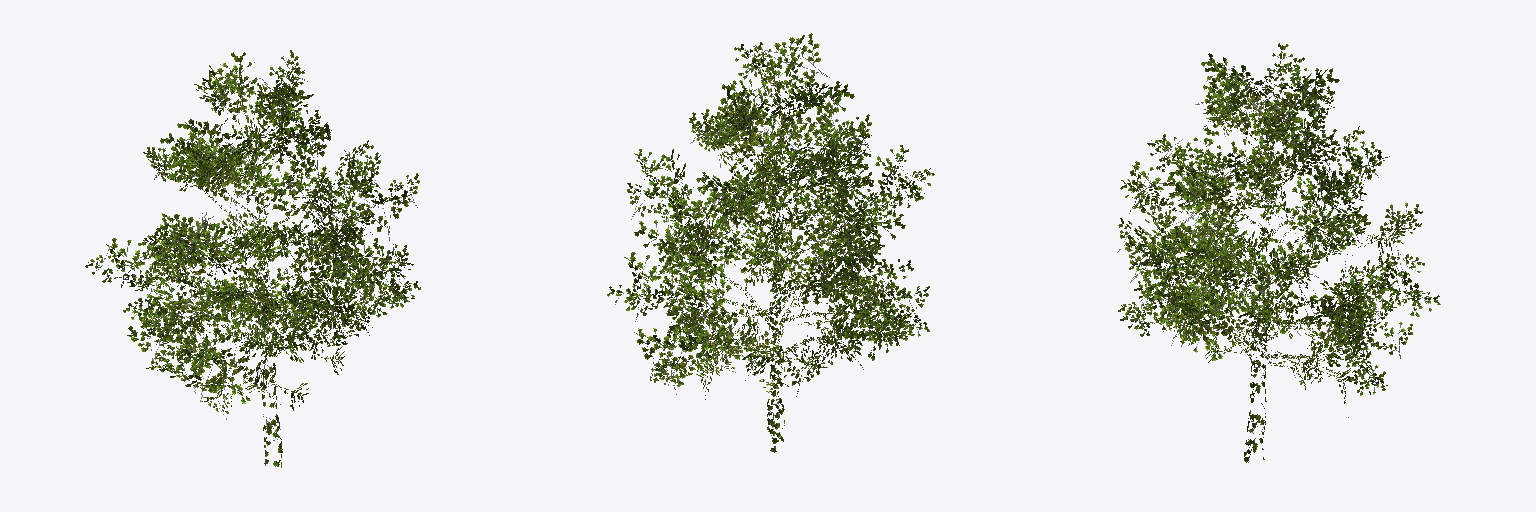
3 renders of one model, left to right at view 1: azimuth 30°, elevation 25°; view 2: azimuth 150°, elevation 25°; view 3: azimuth 270°, elevation 25°, orthographic.
Parts seen in each view (by area): view 1: tree.002, tree.003; view 2: tree.002, tree.003; view 3: tree.002, tree.003.
Part boxes in pixels (left/top/right/bottom): tree.002: left=85, top=50, right=420, bottom=419; tree.003: left=107, top=84, right=400, bottom=467; tree.002: left=607, top=33, right=934, bottom=409; tree.003: left=632, top=75, right=924, bottom=452; tree.002: left=1117, top=43, right=1440, bottom=417; tree.003: left=1132, top=80, right=1413, bottom=462.
Bounding box in the file's own units: 1.5 × 1.93 × 1.42.
Materials: 2 (1 with a texture image).